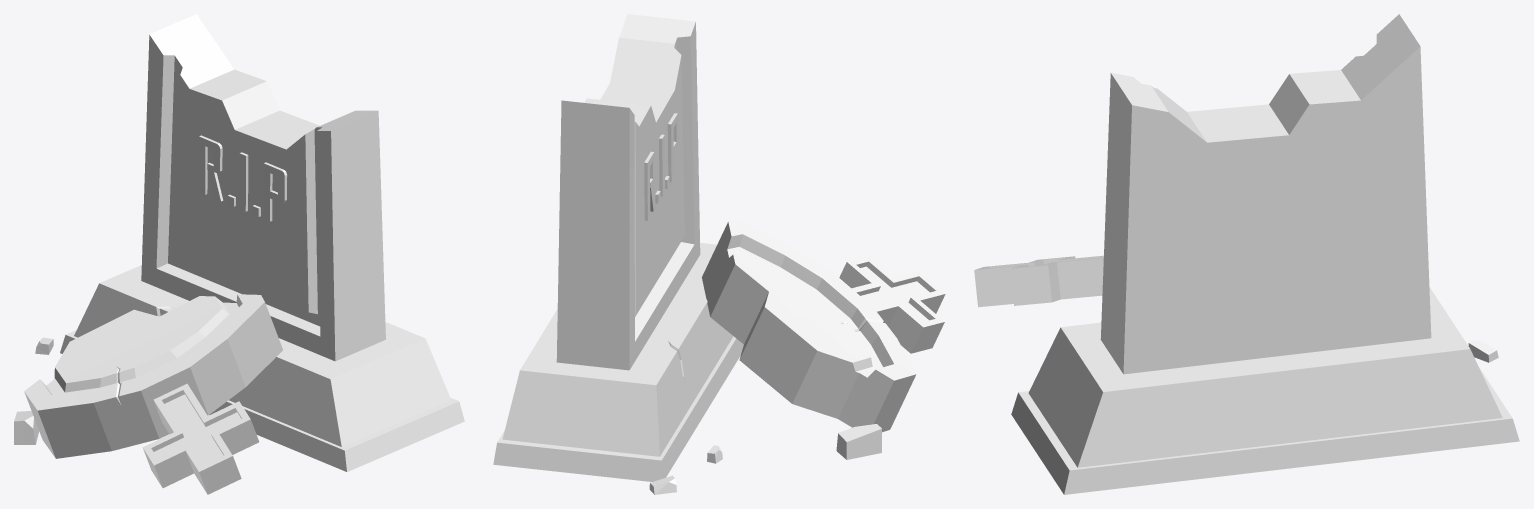
The model's file is graveStone.fbx.
3 renders of one model, left to right at view 1: azimuth 30°, elevation 25°; view 2: azimuth 150°, elevation 25°; view 3: azimuth 270°, elevation 25°, orthographic. The views are drawn at different scales.
Parts seen in each view (by area): view 1: Gravestone_C_Destroyed.002; view 2: Gravestone_C_Destroyed.002; view 3: Gravestone_C_Destroyed.002.
Part boxes in pixels (x1=…): Gravestone_C_Destroyed.002: x1=14, y1=14, x2=464, y2=494; Gravestone_C_Destroyed.002: x1=493, y1=14, x2=945, y2=494; Gravestone_C_Destroyed.002: x1=974, y1=14, x2=1519, y2=494.
Bounding box in the file's own units: 39.35 × 33.33 × 43.15.
